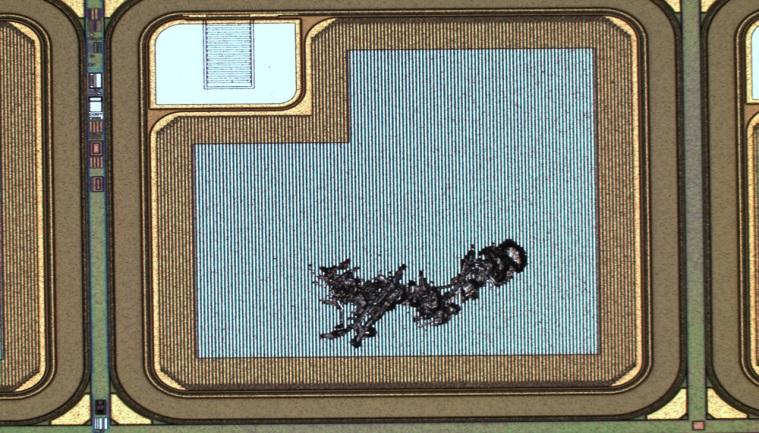SCRATCH: (298, 236, 532, 350)
